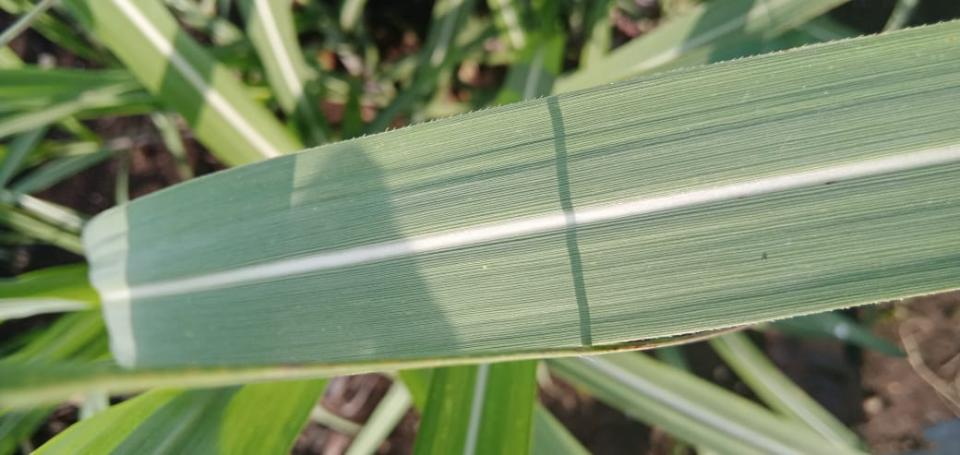Healthy: (84, 21, 959, 369)
